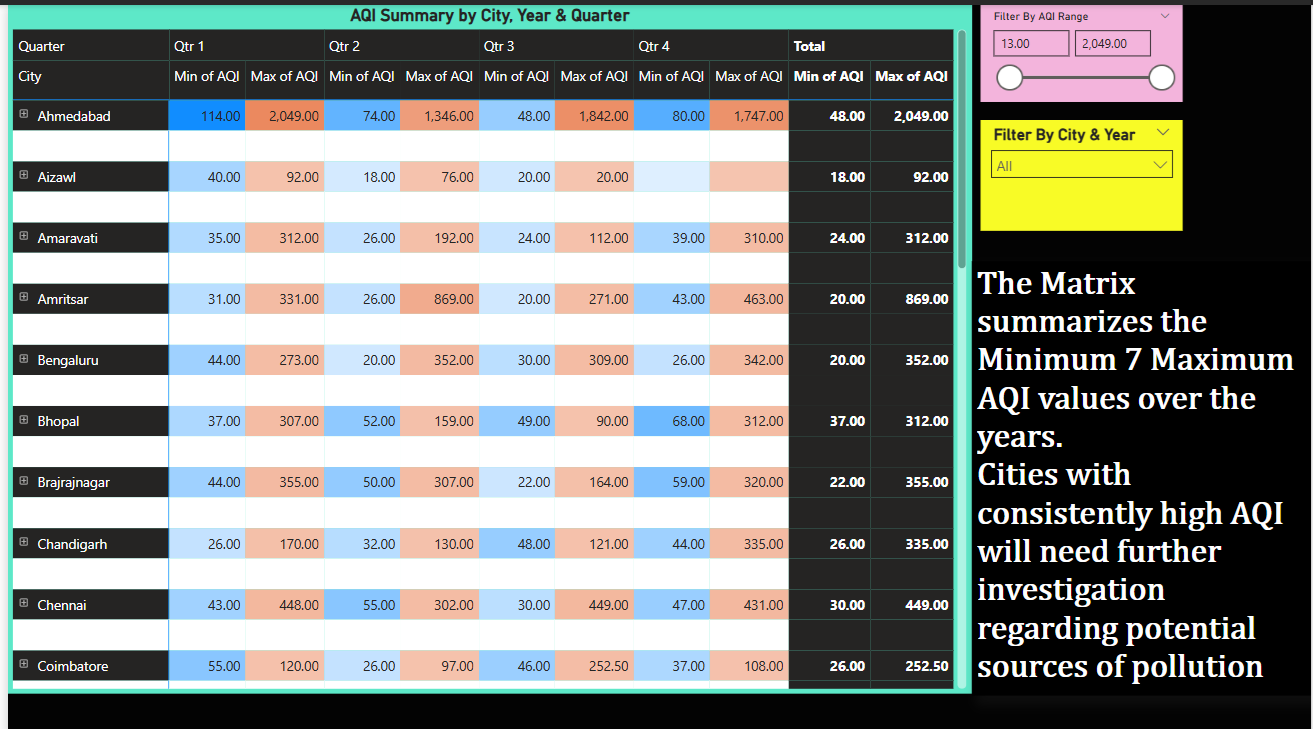

This screenshot's page, from the dashboard's own definition file:
{"tool":"powerbi","page":{"name":"AQI Summary","canvas":[1280,720],"ordinal":4},"visuals":[{"type":"pivotTable","title":"AQI Summary by City, Year & Quarter ","fields":{"Rows":["city_day_with_coordinates.City","city_day_with_coordinates.Date.Variation.Date Hierarchy.Year"],"Columns":["city_day_with_coordinates.Date.Variation.Date Hierarchy.Quarter","city_day_with_coordinates.Date.Variation.Date Hierarchy.Year"],"Values":["Min(city_day_with_coordinates.AQI)","Max(city_day_with_coordinates.AQI)"]},"box":[0,0,946,676],"z":0},{"type":"textbox","box":[946.2,251.2,333.8,426.2],"z":1},{"type":"slicer","fields":{"Values":["city_day_with_coordinates.AQI"]},"box":[955,0,198.8,95],"z":2},{"type":"slicer","fields":{"Values":["city_day_with_coordinates.City","city_day_with_coordinates.Date.Variation.Date Hierarchy.Year"]},"box":[955,112.5,198.8,108.8],"z":3}]}

Visuals, with their boxes in screenshot pixels (x1, y1, x2, y2), scaled from the page's 1280x720 canvas onto the 1313x729 screenshot:
"AQI Summary by City, Year & Quarter " pivotTable: (x1=0, y1=0, x2=970, y2=684)
textbox: (x1=971, y1=254, x2=1312, y2=686)
slicer - city_day_with_coordinates.AQI: (x1=980, y1=0, x2=1184, y2=96)
slicer - city_day_with_coordinates.City x city_day_with_coordinates.Date.Variation.Date Hierarchy.Year: (x1=980, y1=114, x2=1184, y2=224)
